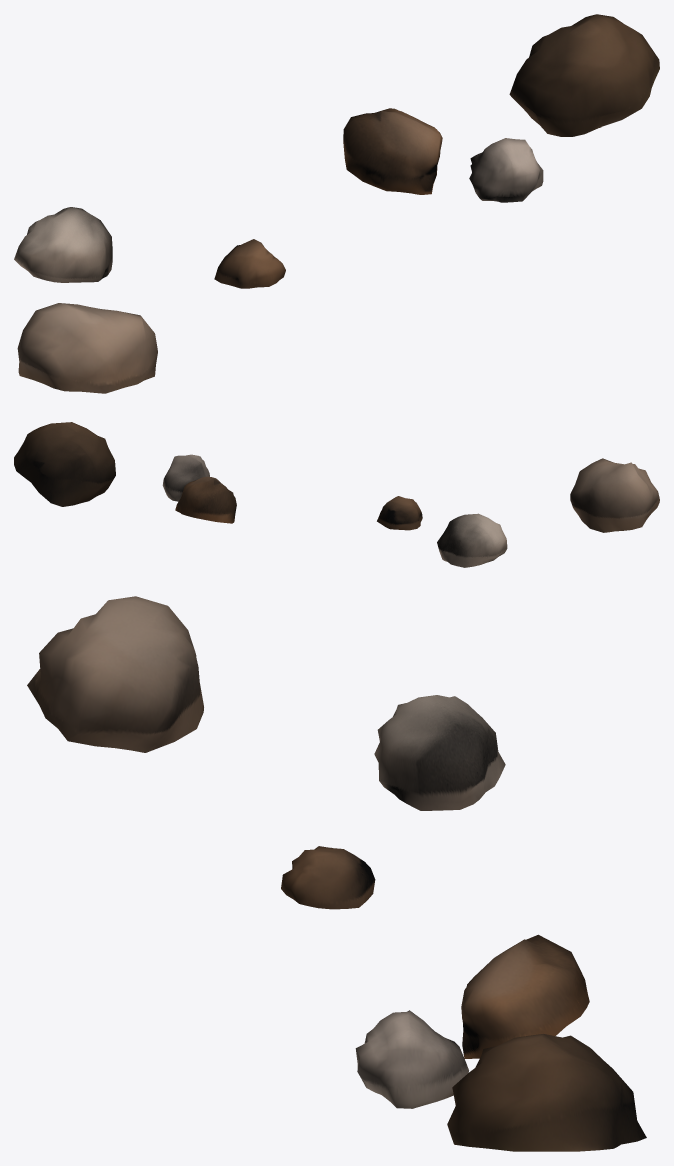
The model's file is Rochers.FBX.
3 renders of one model, top to bottom at view 1: azimuth 30°, elevation 25°; view 2: azimuth 150°, elevation 25°; view 3: azimuth 270°, elevation 25°, orthographic. The views are drawn at different scales.
Visible parts, largest first — view 1: Rochers; view 2: Rochers; view 3: Rochers.
Part boxes in pixels (bbox=[...]): Rochers: bbox=[14, 14, 659, 393]; Rochers: bbox=[14, 422, 659, 567]; Rochers: bbox=[27, 596, 646, 1151].
Size of the model in its own units: 23.92 by 3.15 by 12.17.
